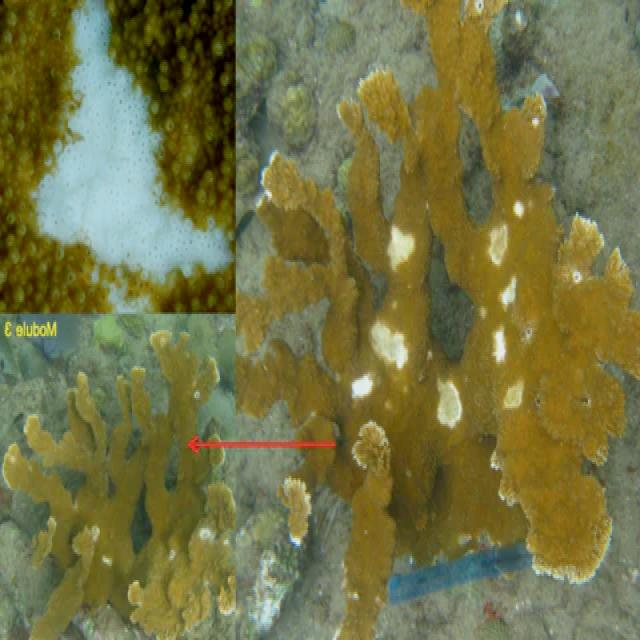Coral: (236, 0, 640, 640), (0, 0, 236, 312), (2, 329, 236, 640)
